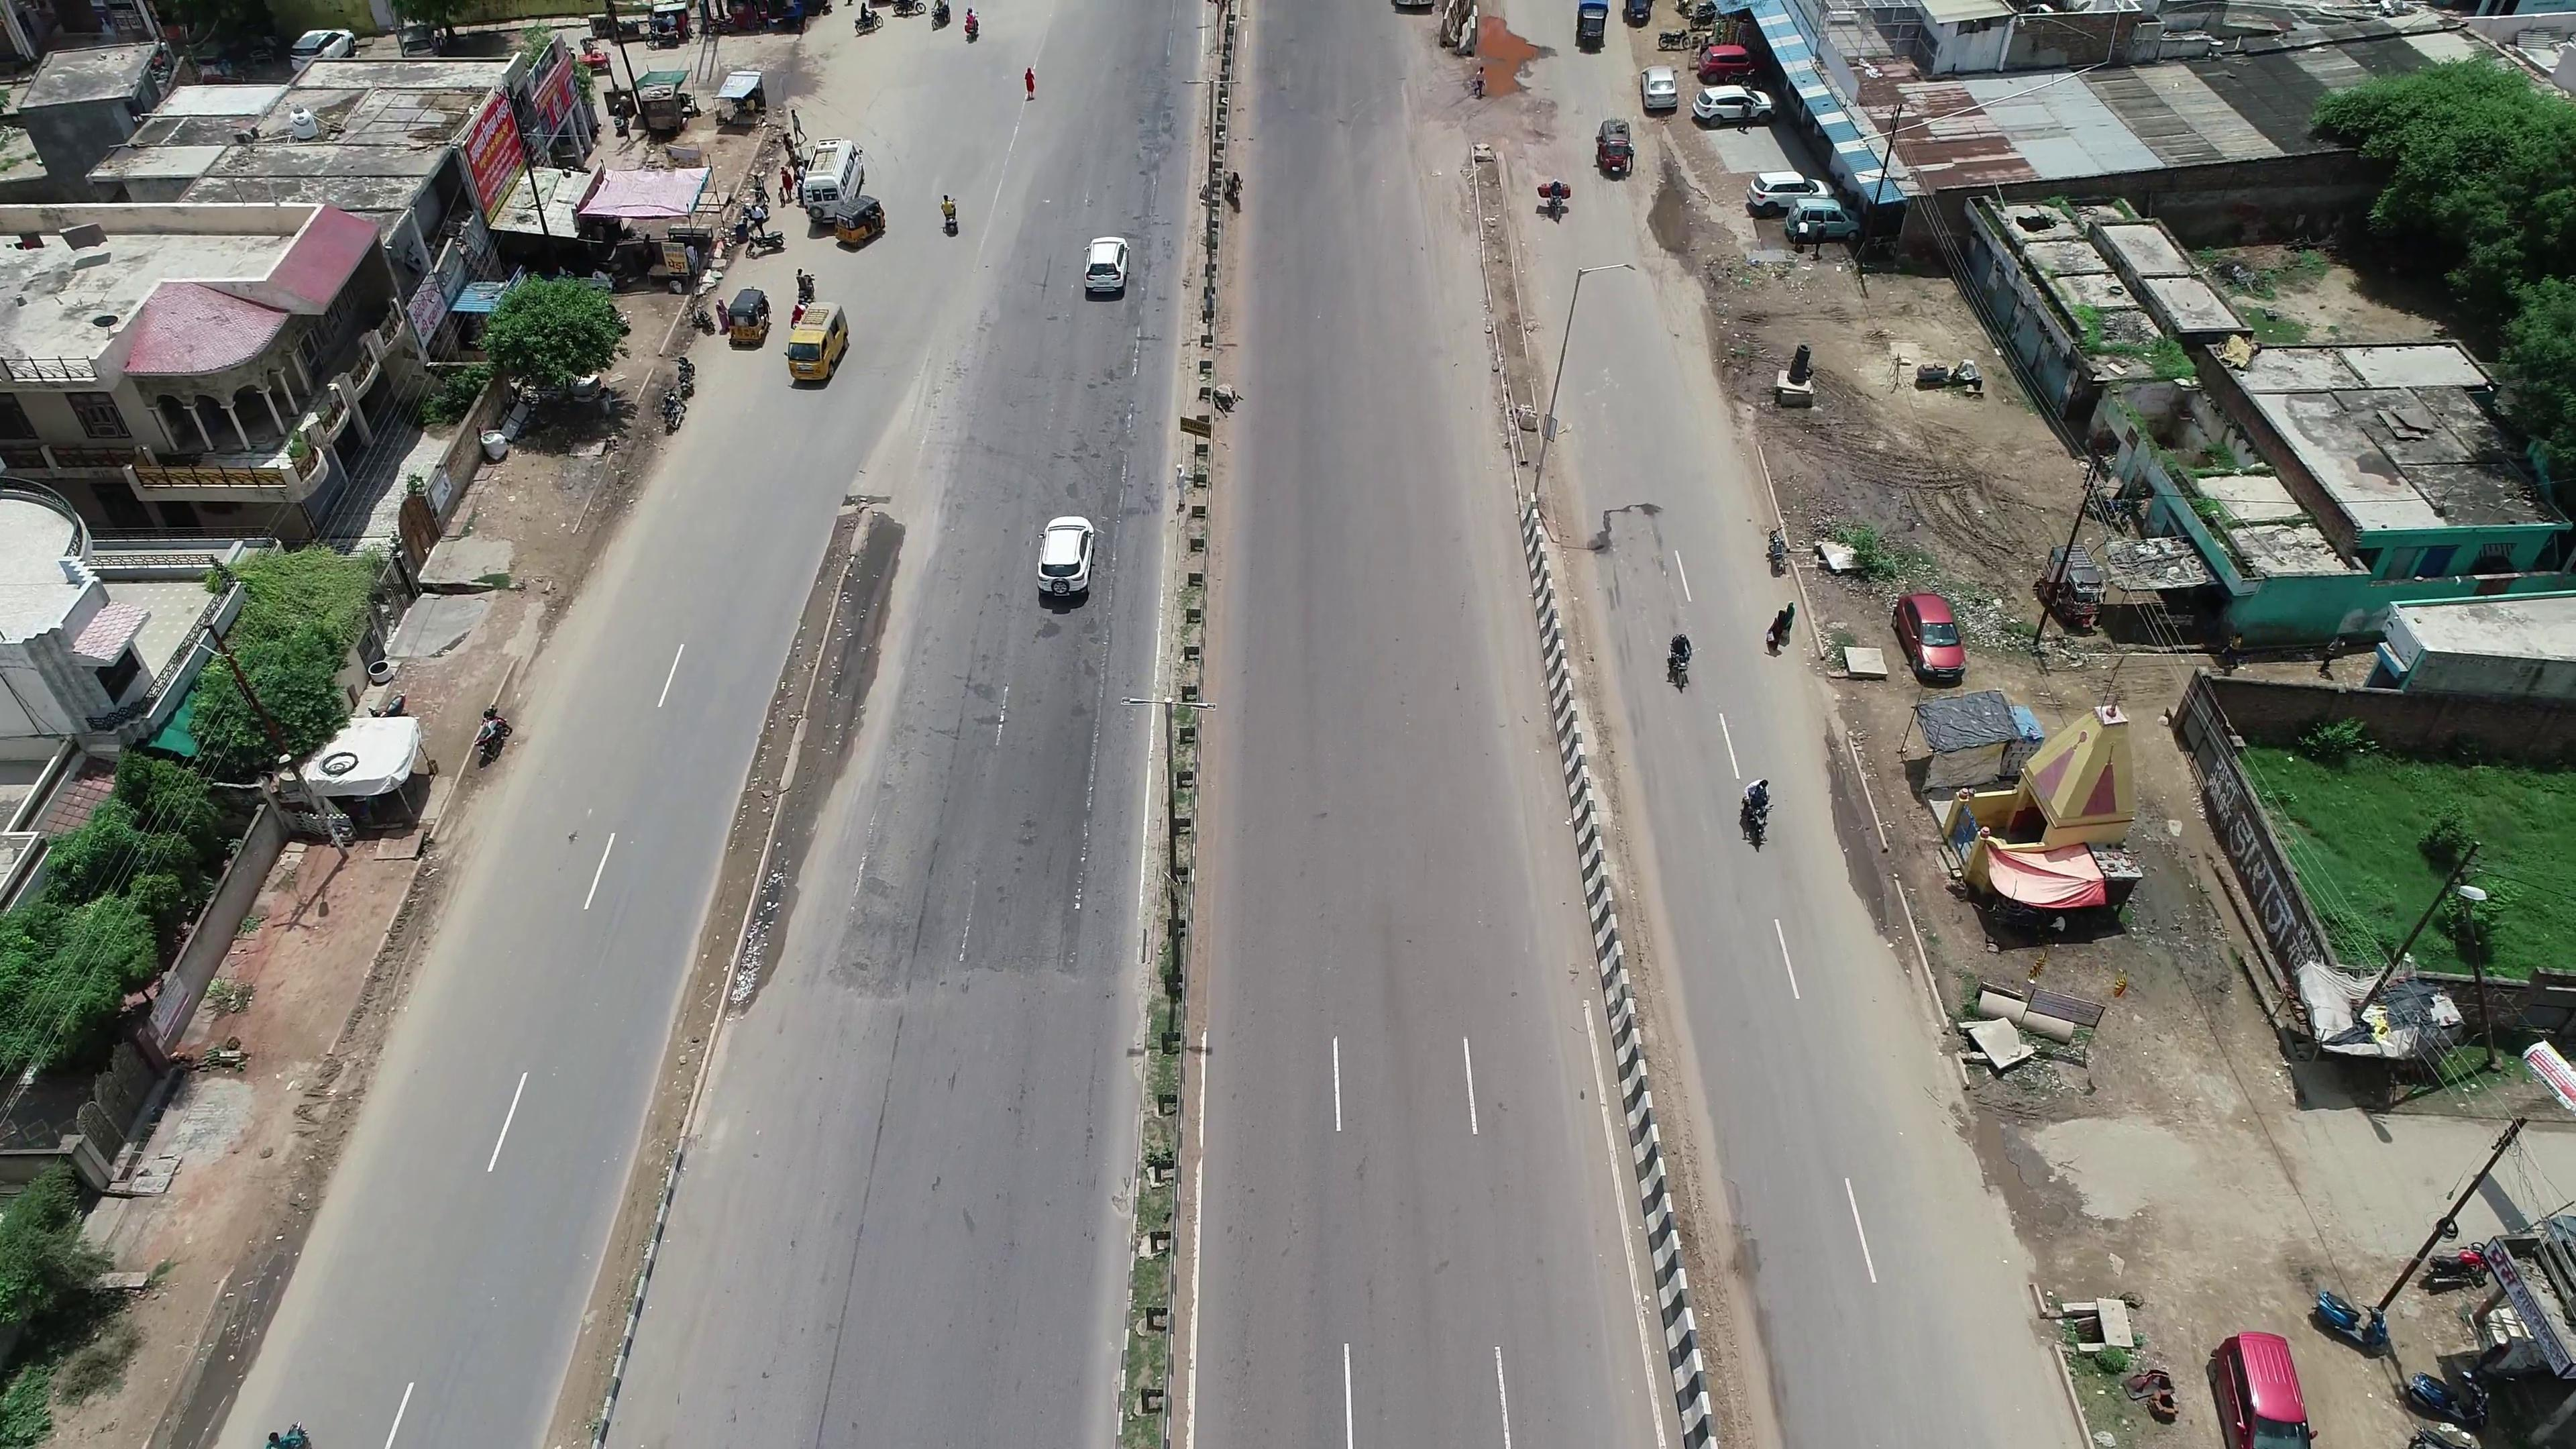Longitudinal_cracks: (824, 847, 947, 1345)
Muddy_road: (791, 522, 913, 824)
